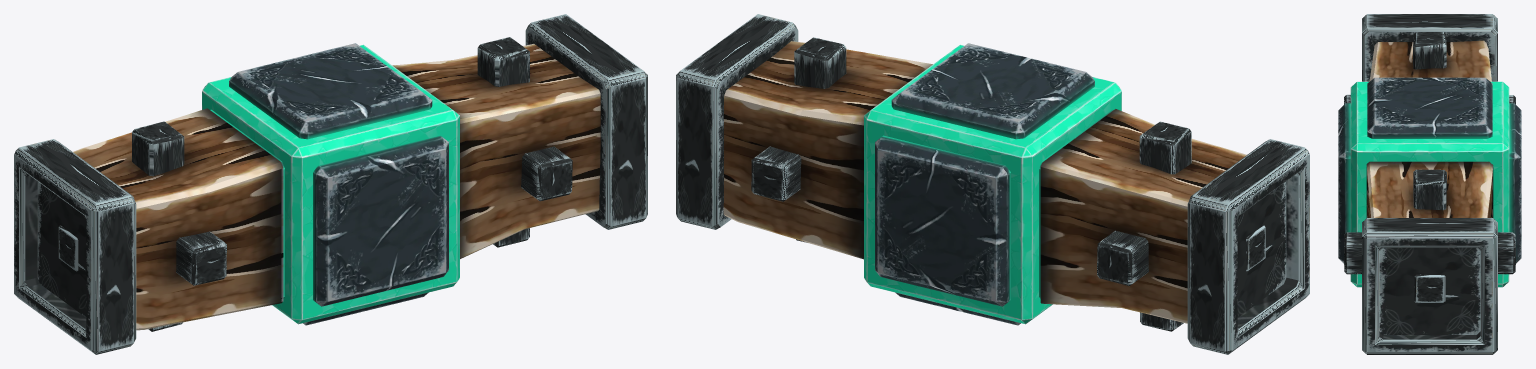
Rendered from step_001.glb.
3 views of the same model, side by side, from view 1: azimuth 30°, elevation 25°; view 2: azimuth 150°, elevation 25°; view 3: azimuth 270°, elevation 25° (orthographic). The views are drawn at different scales.
Parts seen in each view (by area): view 1: SingleWoodenBlock_58d68f30-f2a8-40d4-8195-c1140c211bb2, StartingBlock_f2a2622e-1402-4651-b044-f190cd2c73de; view 2: SingleWoodenBlock_58d68f30-f2a8-40d4-8195-c1140c211bb2, StartingBlock_f2a2622e-1402-4651-b044-f190cd2c73de; view 3: SingleWoodenBlock_58d68f30-f2a8-40d4-8195-c1140c211bb2, StartingBlock_f2a2622e-1402-4651-b044-f190cd2c73de.
Part boxes in pixels (bbox=[...]): SingleWoodenBlock_58d68f30-f2a8-40d4-8195-c1140c211bb2: bbox=[14, 14, 647, 354]; StartingBlock_f2a2622e-1402-4651-b044-f190cd2c73de: bbox=[202, 43, 459, 325]; SingleWoodenBlock_58d68f30-f2a8-40d4-8195-c1140c211bb2: bbox=[676, 14, 1309, 354]; StartingBlock_f2a2622e-1402-4651-b044-f190cd2c73de: bbox=[864, 43, 1121, 325]; SingleWoodenBlock_58d68f30-f2a8-40d4-8195-c1140c211bb2: bbox=[1344, 14, 1515, 354]; StartingBlock_f2a2622e-1402-4651-b044-f190cd2c73de: bbox=[1338, 77, 1521, 287].
Bounding box in the file's own units: 3.22 × 1.13 × 1.13.
Materials: 2 (2 with a texture image).
